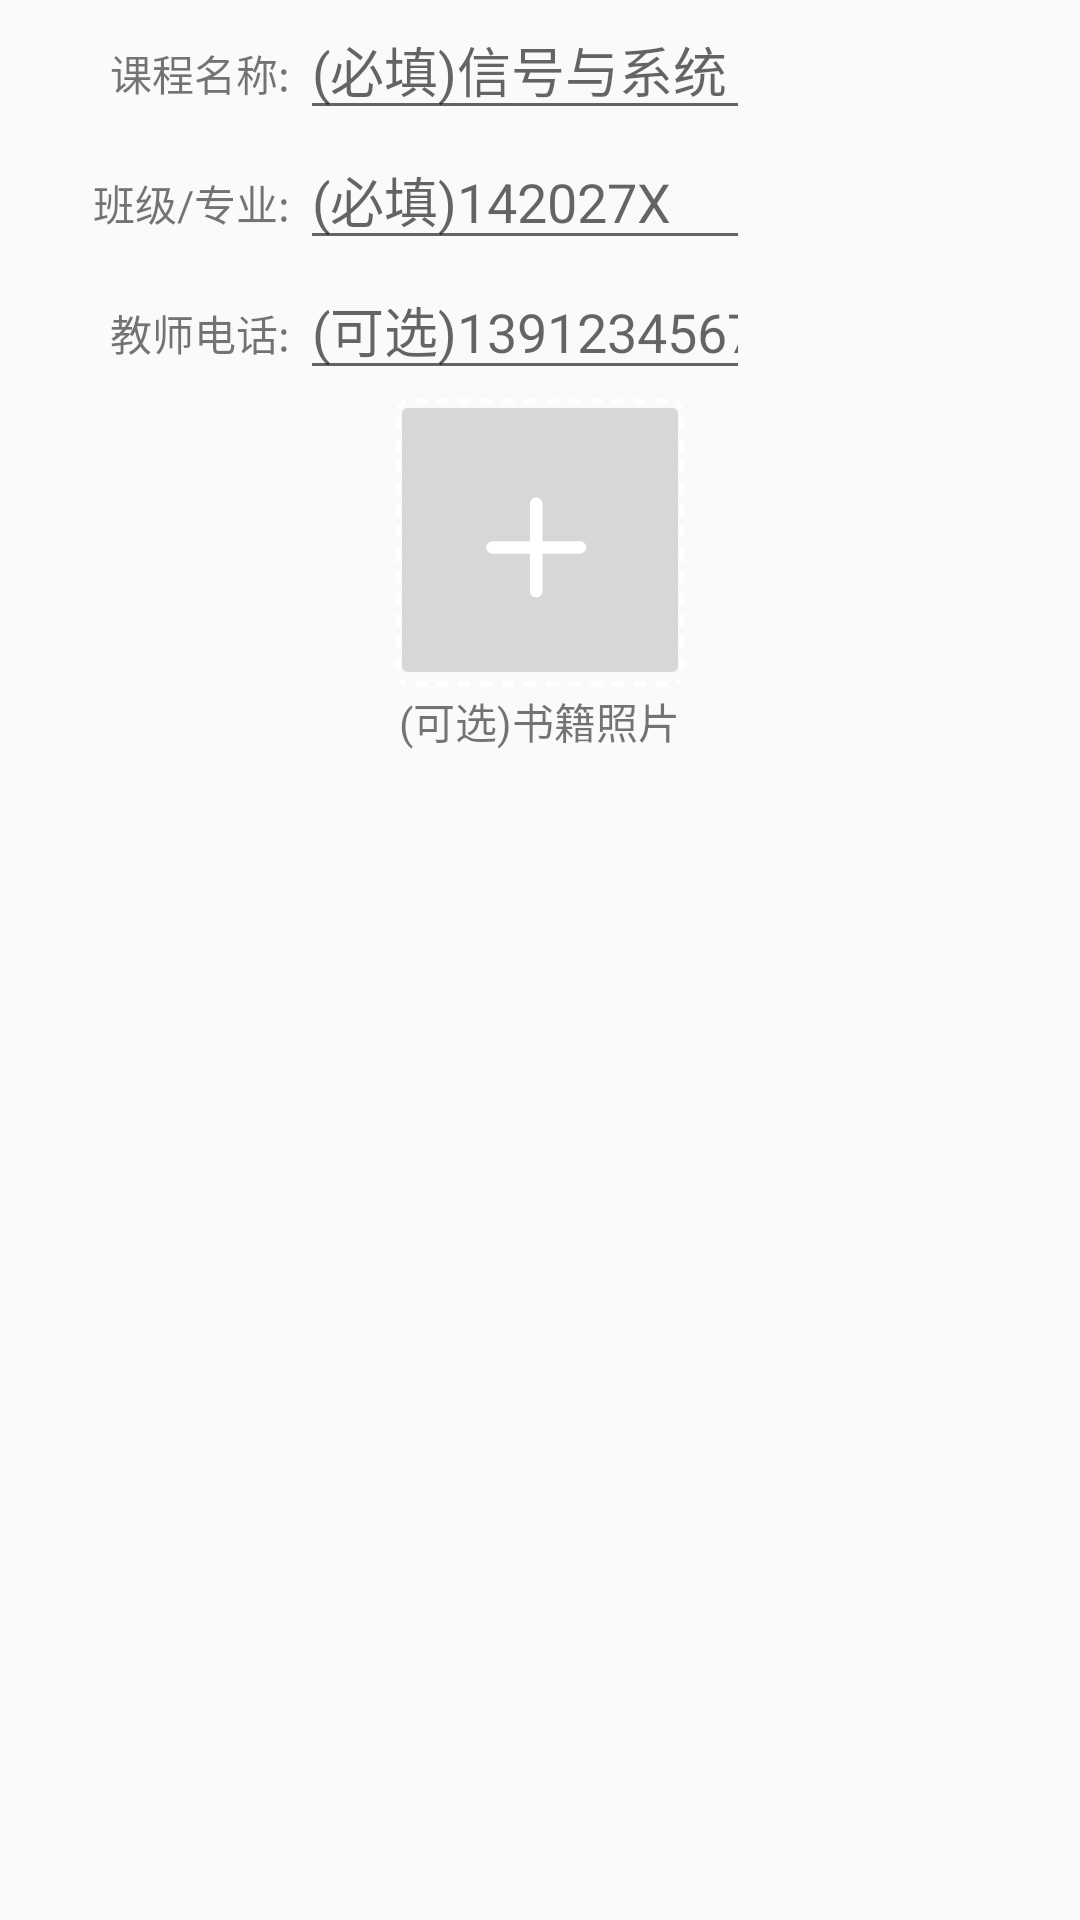

Icons on this 1080x1920 Android screen, each with its box as (x1, y1, x2, y2):
add photos: (402, 408, 678, 672)
